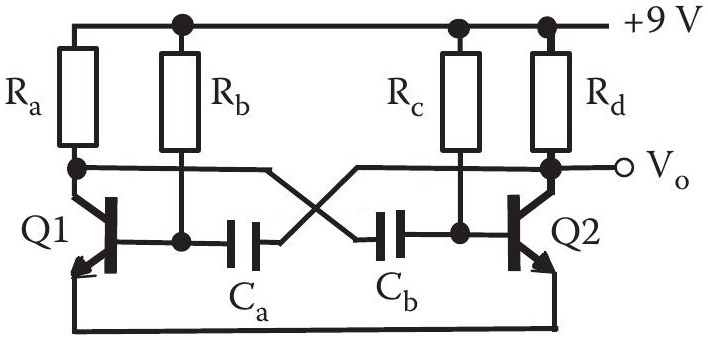capacity: (219, 216, 265, 273), (370, 205, 412, 263)
func: (49, 36, 108, 155), (431, 45, 491, 160), (149, 45, 207, 160), (522, 45, 580, 158)
npn: (498, 185, 567, 280), (63, 186, 126, 284)
